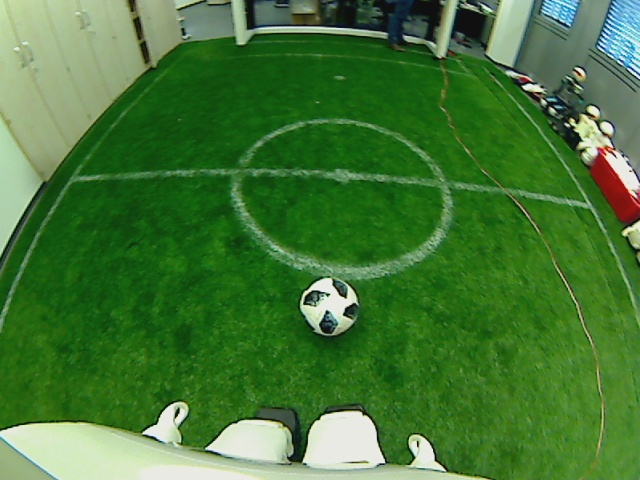ball: (297, 275, 361, 337)
